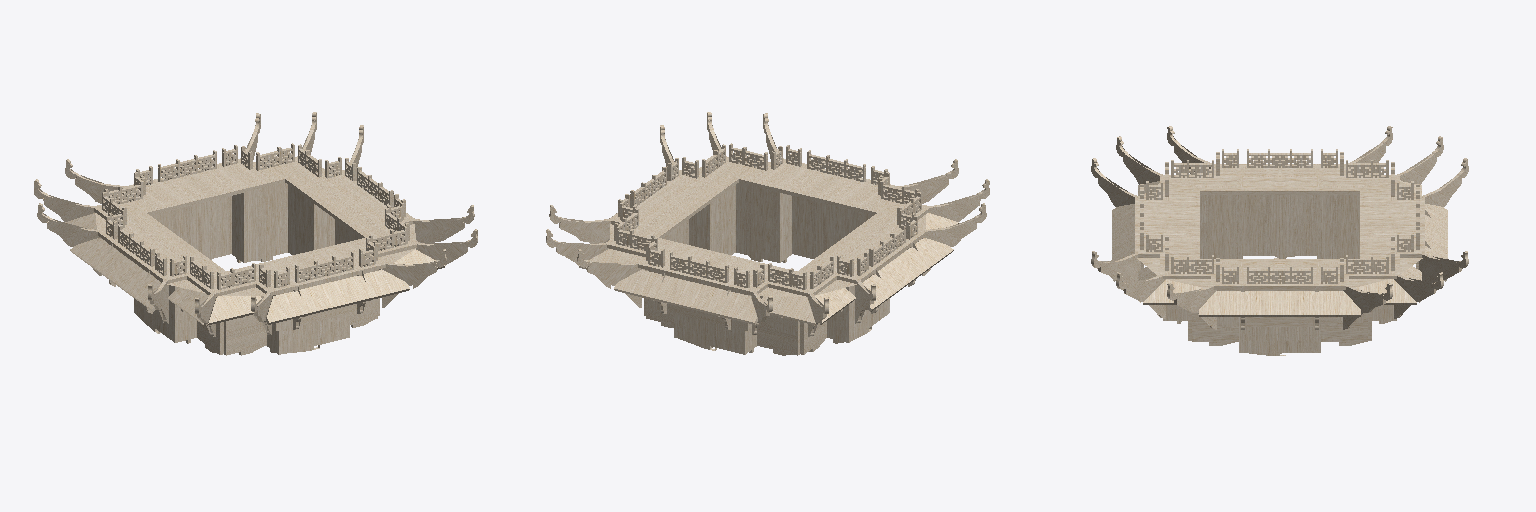
3 views of the same model, side by side, from view 1: azimuth 30°, elevation 25°; view 2: azimuth 150°, elevation 25°; view 3: azimuth 270°, elevation 25° (orthographic).
Visible parts, largest first — view 1: Mesh184 ___578_2 ___602_1 ___665_1 Model, Mesh200 ___578_4 ___602_1 ___665_1 Model, Mesh176 ___578_1 ___602_1 ___665_1 Model, Mesh192 ___578_3 ___602_1 ___665_1 Model, Mesh353 ___581_8 ___596_4 ___666_1 Model, Mesh343 ___570_4 ___596_4 ___666_1 Model, Mesh222 ___571_6 ___622_3 ___665_1 Model, Mesh218 ___571_5 ___622_3 ___665_1 Model, Mesh271 ___570_1 ___596_1 ___666_1 Model, Mesh300 ___581_3 ___596_2 ___666_1 Model, Mesh281 ___581_2 ___596_1 ___666_1 Model, Mesh233 ___571_8 ___622_4 ___665_1 Model (+13 smaller); view 2: Mesh176 ___578_1 ___602_1 ___665_1 Model, Mesh192 ___578_3 ___602_1 ___665_1 Model, Mesh184 ___578_2 ___602_1 ___665_1 Model, Mesh200 ___578_4 ___602_1 ___665_1 Model, Mesh276 ___581_1 ___596_1 ___666_1 Model, Mesh271 ___570_1 ___596_1 ___666_1 Model, Mesh52 ___571_1 ___622_1 ___665_1 Model, Mesh56 ___571_2 ___622_1 ___665_1 Model, Mesh305 ___581_4 ___596_2 ___666_1 Model, Mesh229 ___571_7 ___622_4 ___665_1 Model, Mesh343 ___570_4 ___596_4 ___666_1 Model, Mesh348 ___581_7 ___596_4 ___666_1 Model (+13 smaller); view 3: Mesh319 ___570_3 ___596_3 ___666_1 Model, Mesh200 ___578_4 ___602_1 ___665_1 Model, Mesh192 ___578_3 ___602_1 ___665_1 Model, Mesh176 ___578_1 ___602_1 ___665_1 Model, Mesh184 ___578_2 ___602_1 ___665_1 Model, Mesh324 ___581_5 ___596_3 ___666_1 Model, Mesh329 ___581_6 ___596_3 ___666_1 Model, Mesh207 ___571_3 ___622_2 ___665_1 Model, Mesh211 ___571_4 ___622_2 ___665_1 Model, Mesh295 ___570_2 ___596_2 ___666_1 Model, Mesh305 ___581_4 ___596_2 ___666_1 Model, Mesh300 ___581_3 ___596_2 ___666_1 Model (+14 smaller).
Part boxes in pixels (x1,y1,x2,y2): Mesh184 ___578_2 ___602_1 ___665_1 Model: (188, 157, 373, 210); Mesh200 ___578_4 ___602_1 ___665_1 Model: (94, 173, 215, 258); Mesh176 ___578_1 ___602_1 ___665_1 Model: (296, 197, 417, 281); Mesh192 ___578_3 ___602_1 ___665_1 Model: (131, 242, 327, 296); Mesh353 ___581_8 ___596_4 ___666_1 Model: (247, 183, 287, 261); Mesh343 ___570_4 ___596_4 ___666_1 Model: (180, 196, 231, 259); Mesh222 ___571_6 ___622_3 ___665_1 Model: (266, 283, 339, 324); Mesh218 ___571_5 ___622_3 ___665_1 Model: (328, 270, 409, 307); Mesh271 ___570_1 ___596_1 ___666_1 Model: (277, 291, 349, 354); Mesh300 ___581_3 ___596_2 ___666_1 Model: (288, 185, 311, 254); Mesh281 ___581_2 ___596_1 ___666_1 Model: (224, 296, 266, 355); Mesh233 ___571_8 ___622_4 ___665_1 Model: (70, 238, 130, 281); Mesh176 ___578_1 ___602_1 ___665_1 Model: (650, 157, 835, 210); Mesh192 ___578_3 ___602_1 ___665_1 Model: (808, 173, 929, 258); Mesh184 ___578_2 ___602_1 ___665_1 Model: (606, 197, 727, 281); Mesh200 ___578_4 ___602_1 ___665_1 Model: (696, 242, 892, 296); Mesh276 ___581_1 ___596_1 ___666_1 Model: (736, 183, 776, 261); Mesh271 ___570_1 ___596_1 ___666_1 Model: (792, 196, 843, 258); Mesh52 ___571_1 ___622_1 ___665_1 Model: (684, 283, 757, 324); Mesh56 ___571_2 ___622_1 ___665_1 Model: (614, 270, 695, 307); Mesh305 ___581_4 ___596_2 ___666_1 Model: (712, 185, 735, 254); Mesh229 ___571_7 ___622_4 ___665_1 Model: (893, 238, 953, 281); Mesh343 ___570_4 ___596_4 ___666_1 Model: (674, 291, 746, 354); Mesh348 ___581_7 ___596_4 ___666_1 Model: (757, 296, 799, 355); Mesh319 ___570_3 ___596_3 ___666_1 Model: (1243, 195, 1316, 258); Mesh200 ___578_4 ___602_1 ___665_1 Model: (1280, 164, 1424, 224); Mesh192 ___578_3 ___602_1 ___665_1 Model: (1135, 164, 1279, 224); Mesh176 ___578_1 ___602_1 ___665_1 Model: (1135, 225, 1279, 289); Mesh184 ___578_2 ___602_1 ___665_1 Model: (1280, 225, 1424, 289); Mesh324 ___581_5 ___596_3 ___666_1 Model: (1200, 195, 1238, 258); Mesh329 ___581_6 ___596_3 ___666_1 Model: (1321, 195, 1359, 258); Mesh207 ___571_3 ___622_2 ___665_1 Model: (1280, 291, 1360, 316); Mesh211 ___571_4 ___622_2 ___665_1 Model: (1199, 291, 1279, 316); Mesh295 ___570_2 ___596_2 ___666_1 Model: (1239, 290, 1320, 355); Mesh305 ___581_4 ___596_2 ___666_1 Model: (1192, 290, 1238, 345); Mesh300 ___581_3 ___596_2 ___666_1 Model: (1321, 290, 1367, 345).
Size of the model in its own units: 189 by 56.21 by 189.
2 materials, 1 textured.